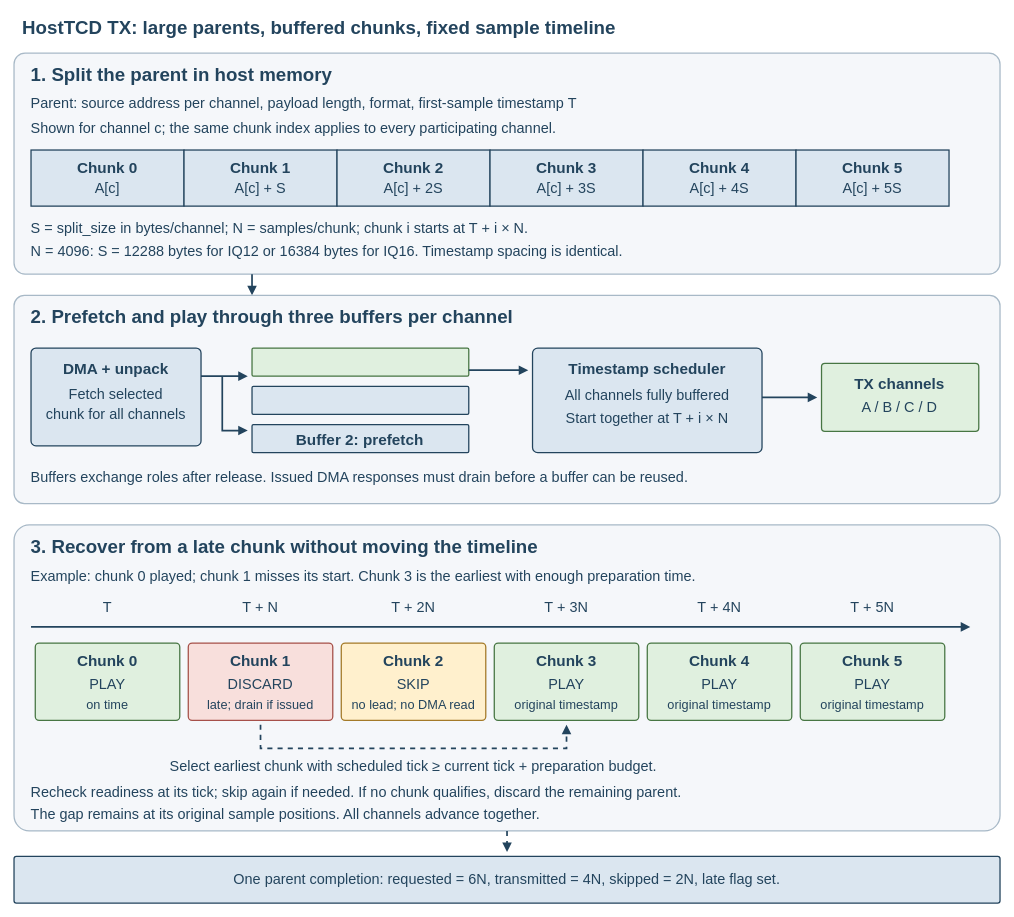
Image size: 1014x917. Some labels were removed from this diagram. Here are the shapes that lost their labels. From the top down, the centre of each, then its label:
At point 360,361: "Buffer 0: playback".
At point 360,400: "Buffer 1: ready".
